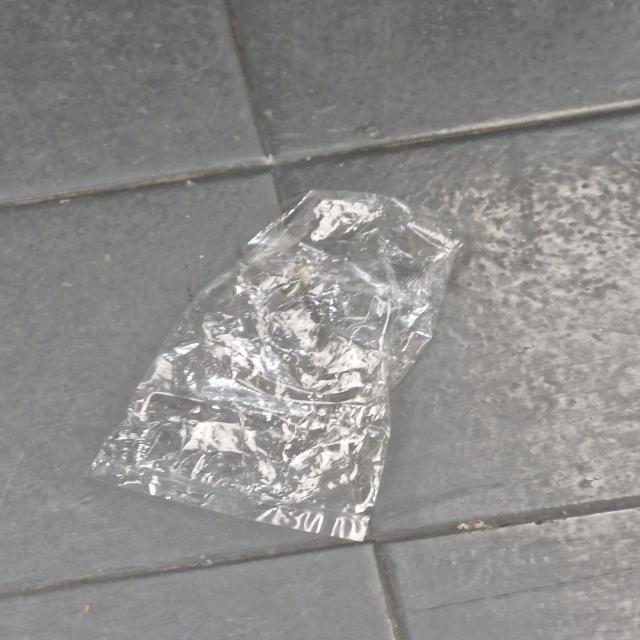plastic bag: (66, 128, 551, 520)
